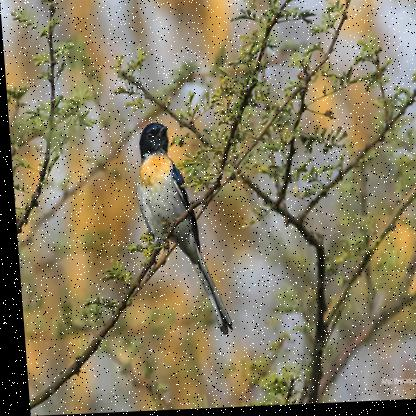Burung: (130, 122, 228, 339)
